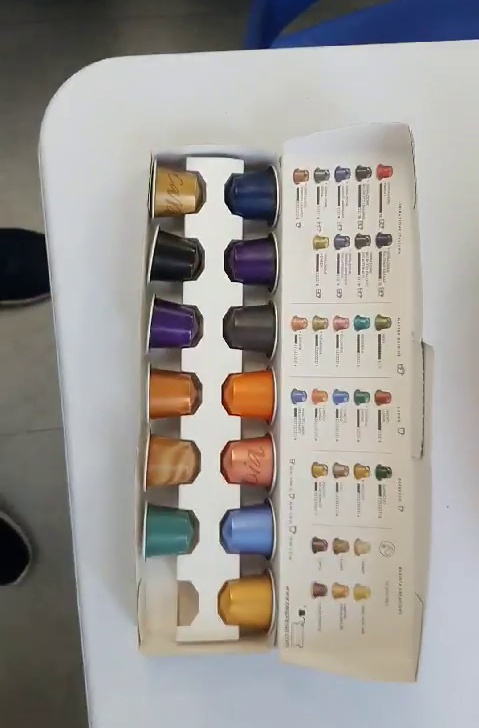capsule_2: (222, 232, 284, 300)
